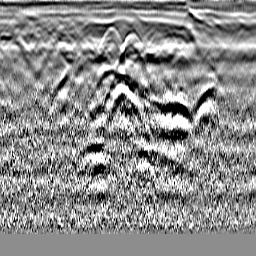cavity: (97, 25, 140, 52)
